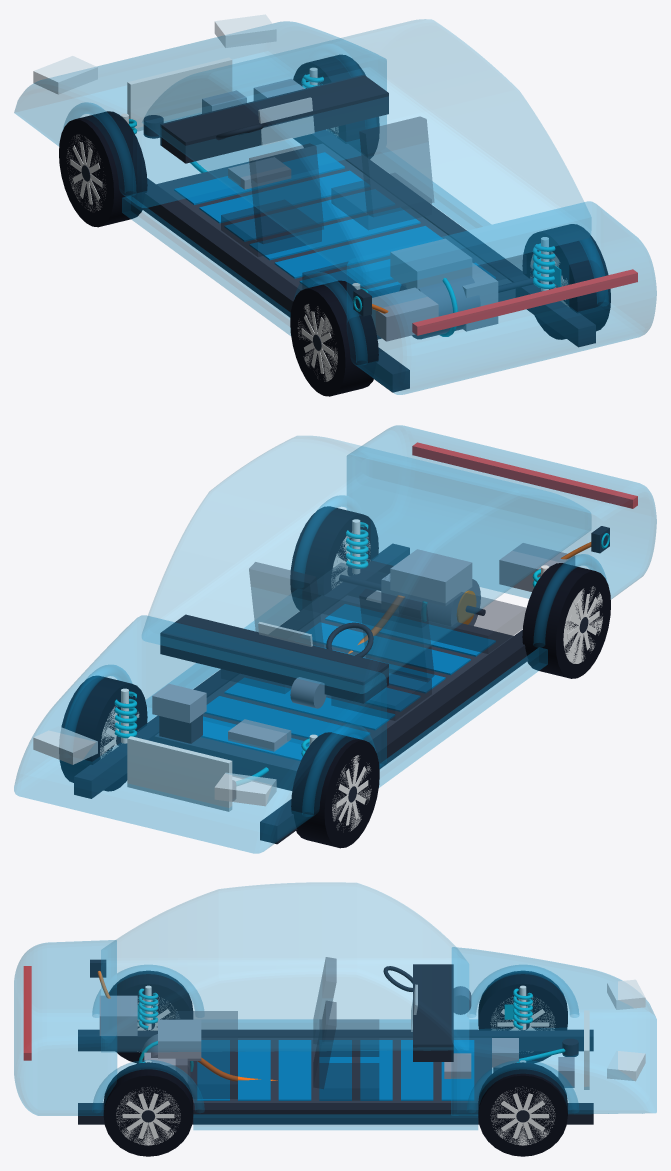
File: electric_xray.glb
3 views of the same model, one above another, from view 1: azimuth 30°, elevation 25°; view 2: azimuth 150°, elevation 25°; view 3: azimuth 270°, elevation 25° (orthographic). The views are drawn at different scales.
Parts seen in each view (by area): view 1: car_body_ev_xray, car_interior_visible, ev_battery_pack, wheels_and_tires, chassis_structure, ev_thermal_sys, ev_inverter, ev_charger, ev_motor, ev_transmission, ev_suspension, ev_dcdc_aux; view 2: car_body_ev_xray, car_interior_visible, wheels_and_tires, ev_battery_pack, chassis_structure, ev_thermal_sys, ev_inverter, ev_charger, ev_dcdc_aux, ev_suspension, ev_motor, ev_regen_brakes (+1 smaller); view 3: car_body_ev_xray, wheels_and_tires, ev_battery_pack, car_interior_visible, chassis_structure, ev_inverter, ev_charger, ev_suspension, ev_thermal_sys, ev_dcdc_aux, ev_regen_brakes, ev_transmission (+1 smaller).
Part boxes in pixels (bbox=[...]): car_body_ev_xray: bbox=[14, 14, 656, 394]; car_interior_visible: bbox=[160, 74, 526, 297]; ev_battery_pack: bbox=[156, 143, 515, 339]; wheels_and_tires: bbox=[59, 54, 610, 396]; chassis_structure: bbox=[141, 129, 595, 392]; ev_thermal_sys: bbox=[127, 57, 246, 172]; ev_inverter: bbox=[390, 238, 472, 289]; ev_charger: bbox=[353, 287, 438, 341]; ev_motor: bbox=[399, 275, 480, 339]; ev_transmission: bbox=[462, 263, 540, 331]; ev_suspension: bbox=[121, 67, 555, 292]; ev_dcdc_aux: bbox=[253, 79, 304, 100]; car_body_ev_xray: bbox=[14, 425, 656, 853]; car_interior_visible: bbox=[160, 562, 526, 720]; wheels_and_tires: bbox=[59, 506, 610, 848]; ev_battery_pack: bbox=[154, 595, 513, 790]; chassis_structure: bbox=[74, 543, 528, 844]; ev_thermal_sys: bbox=[127, 736, 268, 811]; ev_inverter: bbox=[348, 549, 472, 653]; ev_charger: bbox=[499, 526, 609, 591]; ev_dcdc_aux: bbox=[152, 683, 206, 743]; ev_suspension: bbox=[114, 519, 548, 756]; ev_motor: bbox=[399, 579, 480, 626]; ev_regen_brakes: bbox=[118, 541, 361, 731]; car_body_ev_xray: bbox=[14, 882, 656, 1129]; wheels_and_tires: bbox=[103, 970, 567, 1156]; ev_battery_pack: bbox=[188, 1037, 491, 1102]; car_interior_visible: bbox=[176, 957, 453, 1100]; chassis_structure: bbox=[78, 1029, 593, 1124]; ev_inverter: bbox=[158, 1019, 277, 1081]; ev_charger: bbox=[90, 959, 137, 1035]; ev_suspension: bbox=[138, 985, 532, 1062]; ev_thermal_sys: bbox=[519, 1010, 589, 1089]; ev_dcdc_aux: bbox=[492, 1038, 518, 1072]; ev_regen_brakes: bbox=[137, 986, 519, 1019]; ev_transmission: bbox=[144, 1052, 187, 1082].
Bounding box in the file's own units: 1.84 × 1.45 × 4.74.
